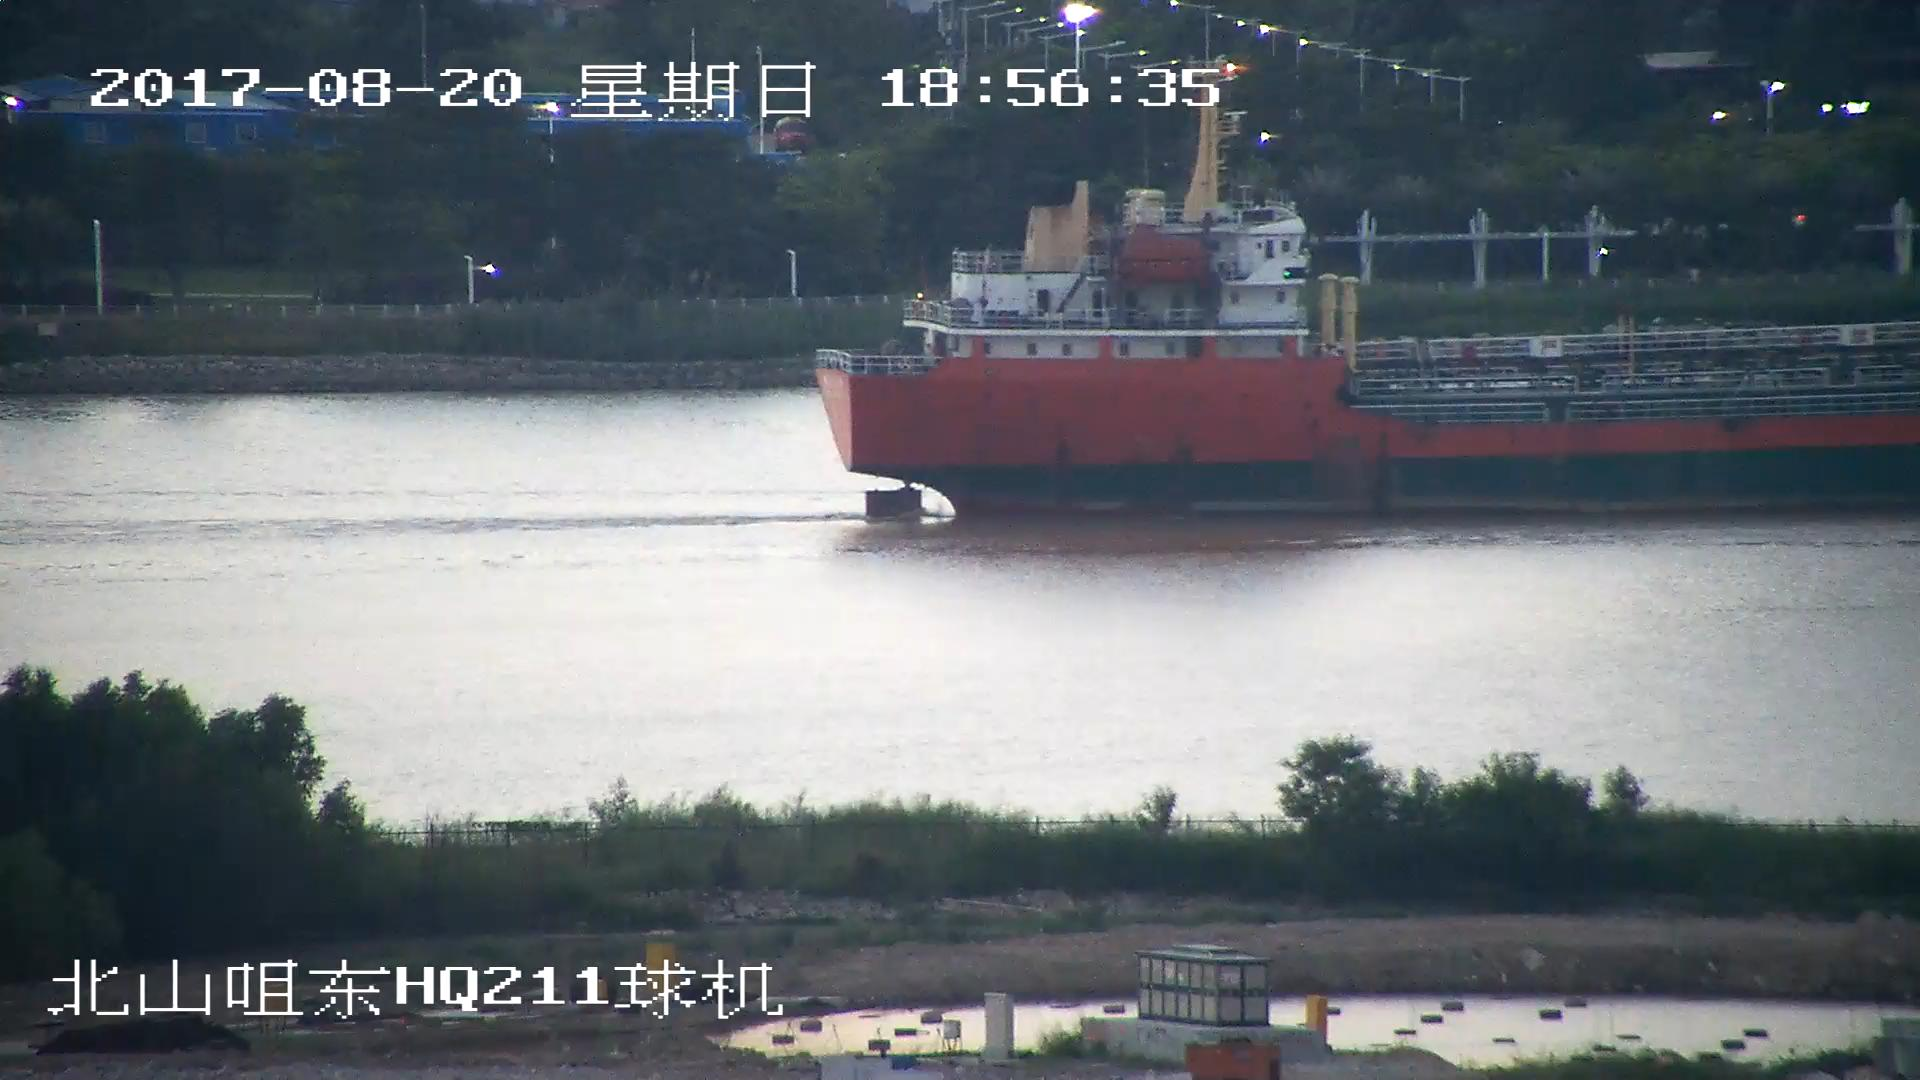general cargo ship: (807, 126, 1920, 511)
